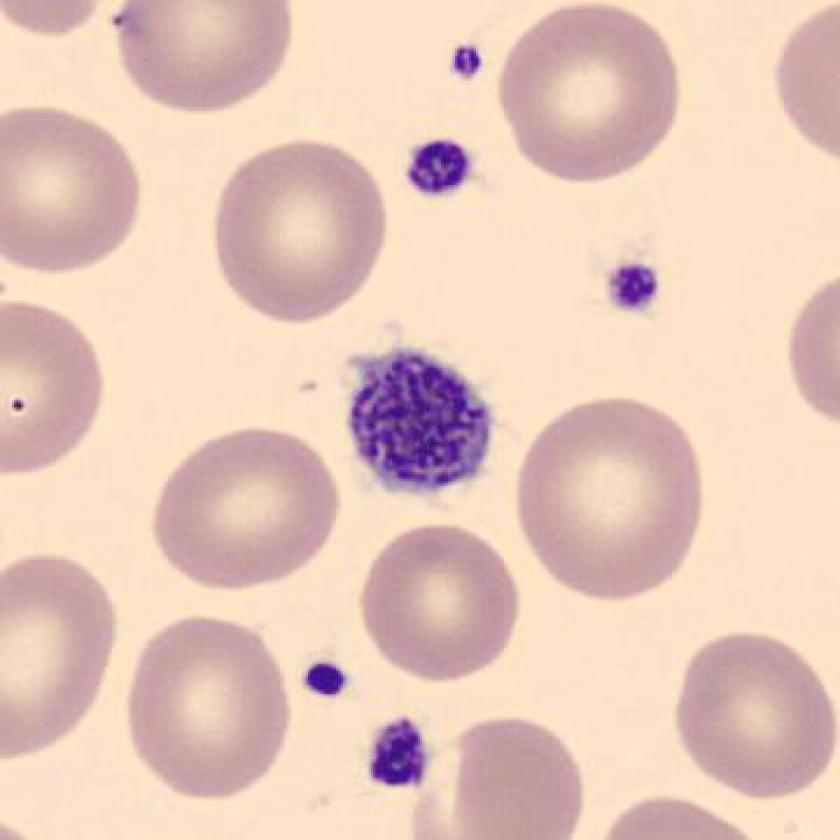platelets: (342, 337, 500, 506), (367, 702, 435, 802), (395, 131, 484, 207), (601, 251, 671, 327), (442, 34, 491, 92), (302, 656, 353, 704)
